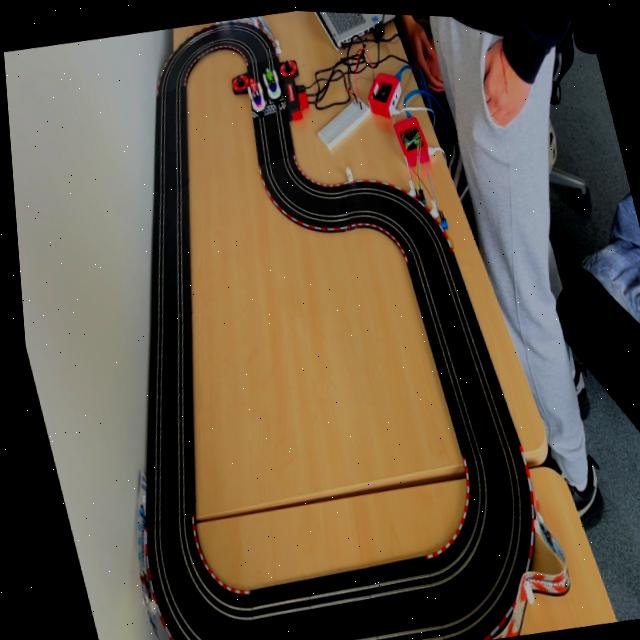mario: (241, 72, 268, 114)
yoshi: (260, 64, 283, 101)
